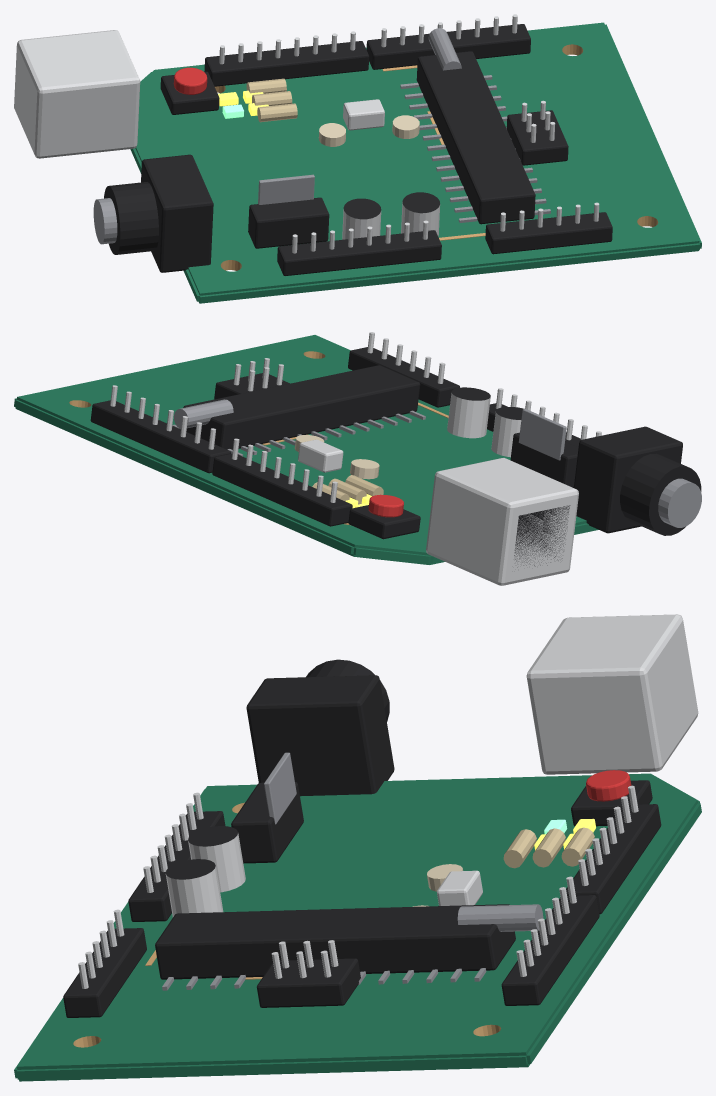
File: arduino-uno.glb
3 renders of one model, top to bottom at view 1: azimuth 30°, elevation 25°; view 2: azimuth 150°, elevation 25°; view 3: azimuth 270°, elevation 25°, orthographic. The views are drawn at different scales.
Parts seen in each view (by area): view 1: PCB_Board, USB_Connector_Shell, ATmega328_IC, Barrel_Jack_Base, Header_Power_Housing, Header_Digital_Upper_Housing, Header_Digital_Lower_Housing, Header_Analog_Housing, Voltage_Regulator_Body, Barrel_Jack_Body, ATmega328_Legs, Reset_Button_Base (+18 smaller); view 2: PCB_Board, USB_Connector_Shell, ATmega328_IC, Barrel_Jack_Base, Header_Digital_Upper_Housing, Header_Digital_Lower_Housing, Barrel_Jack_Body, Header_Analog_Housing, USB_Connector_Port, Capacitor_Electrolytic_2, Voltage_Regulator_Body, Barrel_Jack_Tip (+14 smaller); view 3: PCB_Board, USB_Connector_Shell, ATmega328_IC, Barrel_Jack_Base, Header_Digital_Lower_Housing, Header_Digital_Upper_Housing, Header_Analog_Housing, Voltage_Regulator_Body, Header_ICSP_Row2_Housing, Capacitor_Electrolytic_2, Header_Power_Housing, Capacitor_Electrolytic_1 (+15 smaller).
Boxes of the visible parts, <box> form: PCB_Board: <box>130,22,701,303</box>; USB_Connector_Shell: <box>14,30,140,158</box>; ATmega328_IC: <box>416,51,535,224</box>; Barrel_Jack_Base: <box>141,154,213,272</box>; Header_Power_Housing: <box>277,230,441,275</box>; Header_Digital_Upper_Housing: <box>204,41,369,86</box>; Header_Digital_Lower_Housing: <box>366,24,530,69</box>; Header_Analog_Housing: <box>485,212,612,254</box>; Voltage_Regulator_Body: <box>248,197,329,248</box>; Barrel_Jack_Body: <box>104,182,158,254</box>; ATmega328_Legs: <box>400,75,550,222</box>; Reset_Button_Base: <box>160,71,219,114</box>; PCB_Board: <box>14,335,598,564</box>; USB_Connector_Shell: <box>426,458,578,585</box>; ATmega328_IC: <box>183,365,420,449</box>; Barrel_Jack_Base: <box>573,426,682,533</box>; Header_Digital_Upper_Housing: <box>212,453,352,526</box>; Header_Digital_Lower_Housing: <box>90,400,230,473</box>; Barrel_Jack_Body: <box>620,453,701,535</box>; Header_Analog_Housing: <box>348,347,459,407</box>; USB_Connector_Port: <box>514,505,570,567</box>; Capacitor_Electrolytic_2: <box>447,387,490,438</box>; Voltage_Regulator_Body: <box>510,432,578,487</box>; Barrel_Jack_Tip: <box>658,478,701,527</box>; PCB_Board: <box>14,773,701,1081</box>; USB_Connector_Shell: <box>526,614,698,774</box>; ATmega328_IC: <box>155,904,515,979</box>; Barrel_Jack_Base: <box>246,675,394,796</box>; Header_Digital_Lower_Housing: <box>501,895,599,1005</box>; Header_Digital_Upper_Housing: <box>566,804,661,914</box>; Header_Analog_Housing: <box>63,928,146,1017</box>; Voltage_Regulator_Body: <box>231,782,303,863</box>; Header_ICSP_Row2_Housing: <box>256,969,353,1007</box>; Capacitor_Electrolytic_2: <box>165,859,223,917</box>; Header_Power_Housing: <box>128,811,225,921</box>; Capacitor_Electrolytic_1: <box>188,826,245,892</box>.
Bounding box in the file's own units: 0.0881 × 0.0199 × 0.0676.
